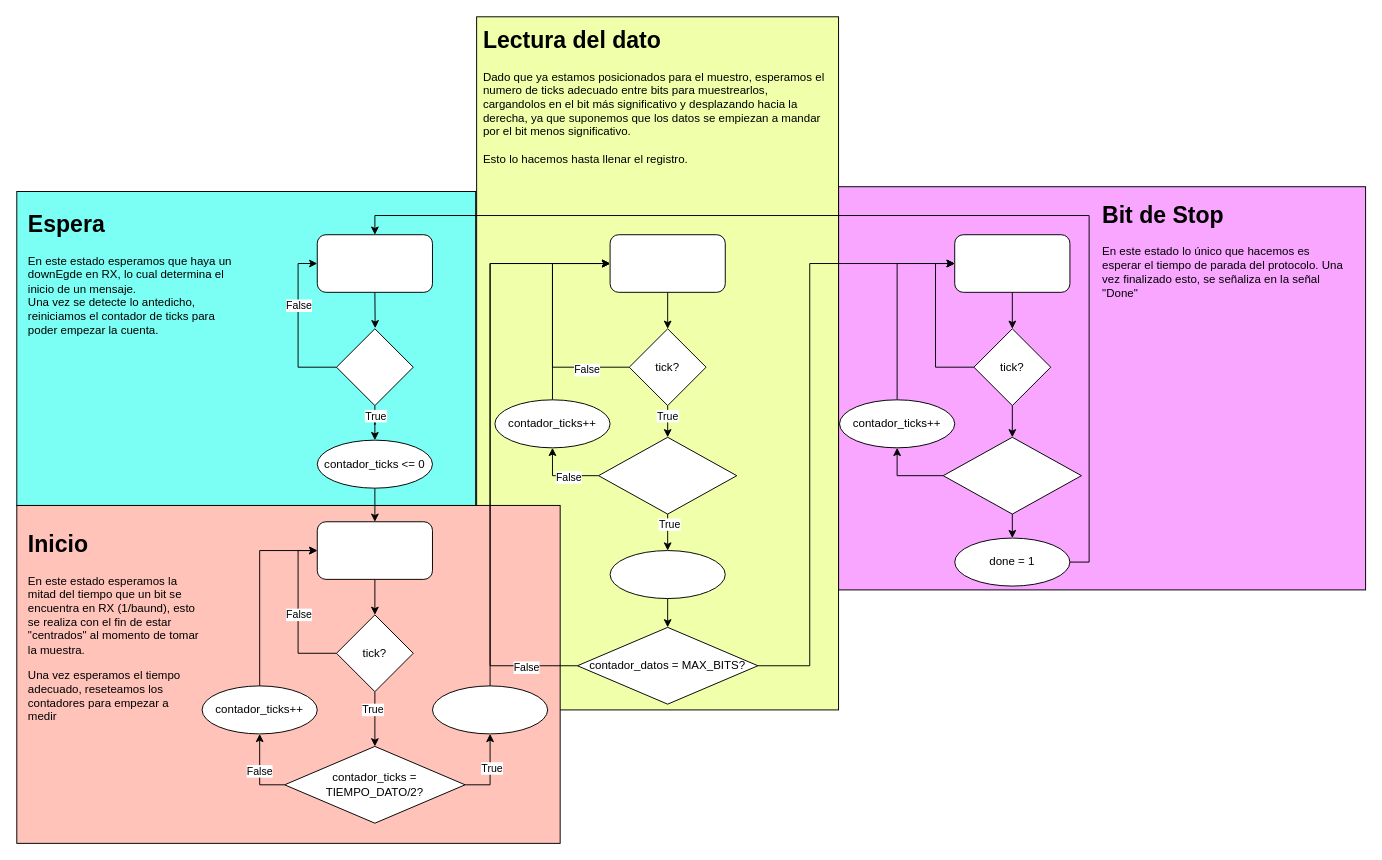
The diagram is 1382 pixels wide and 860 high, and some of its shapes have lost their labels. The shapes that lost their labels are listed below. From the top down, each one's centre as x and y in pixels, then its label:
At point 374,367: "downEdge?".
At point 667,475: "contador_ticks = TIEMPO_DATO?".
At point 1011,475: "contador_ticks = TIEMPO_STOP?".
At point 667,574: "contador_bits++ dato<=rx&dato>>1".
At point 490,709: "contador_ticks<=0 contador_bits<=0".
